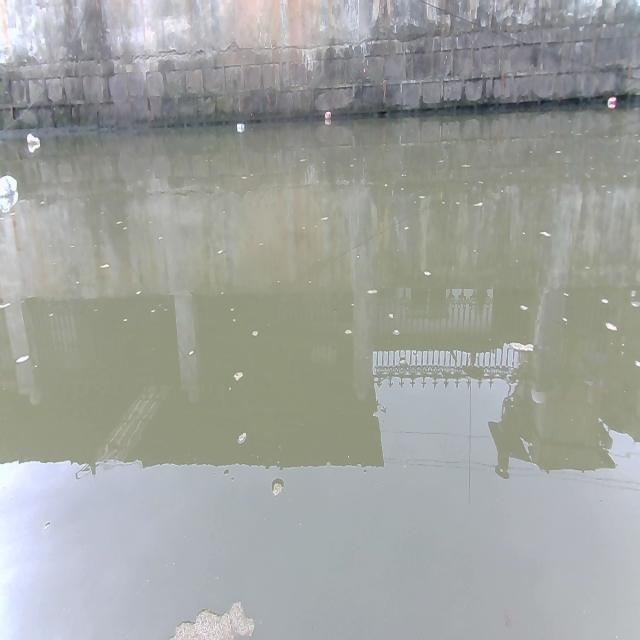bottle: (0, 172, 19, 192), (23, 133, 43, 143), (604, 92, 616, 106), (234, 121, 246, 135), (323, 108, 332, 124)
